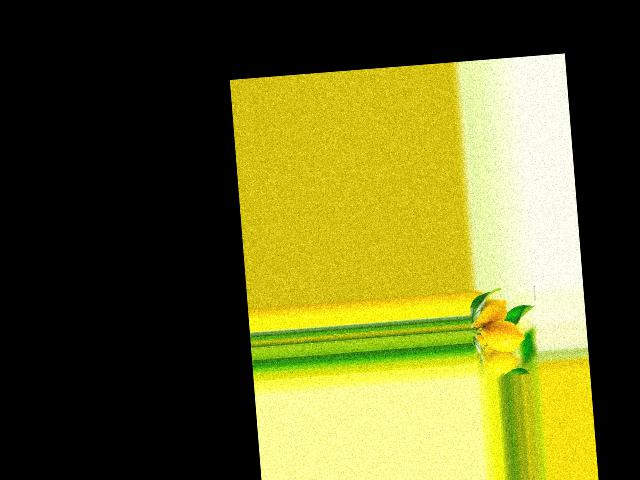lemon: (479, 349, 523, 376)
